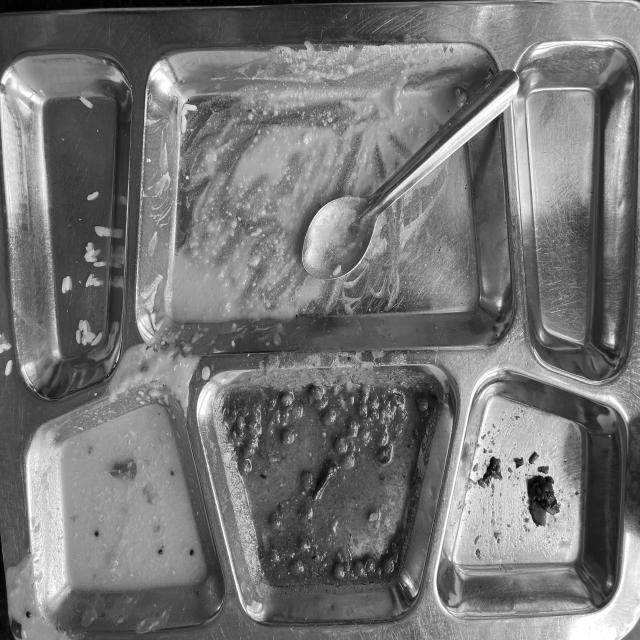Empty-Plate: (0, 29, 624, 616)
